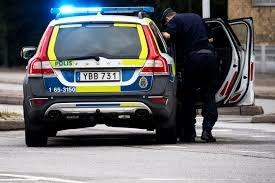license-plates: (76, 71, 120, 82)
